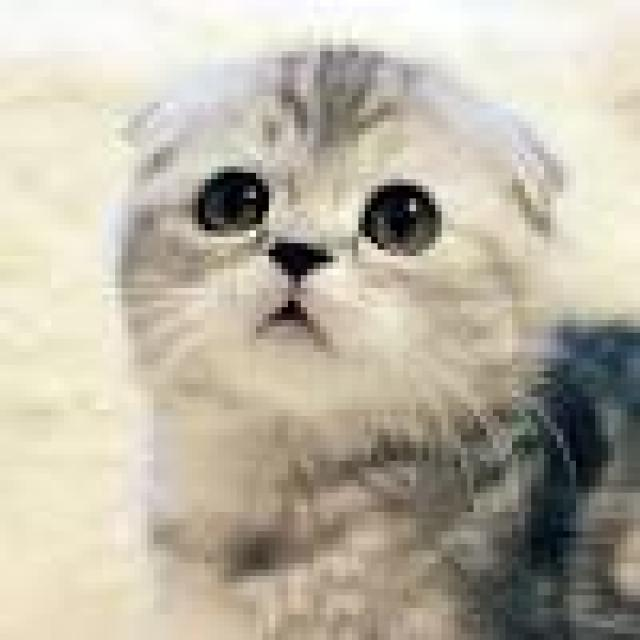cat-face: (84, 24, 590, 463)
